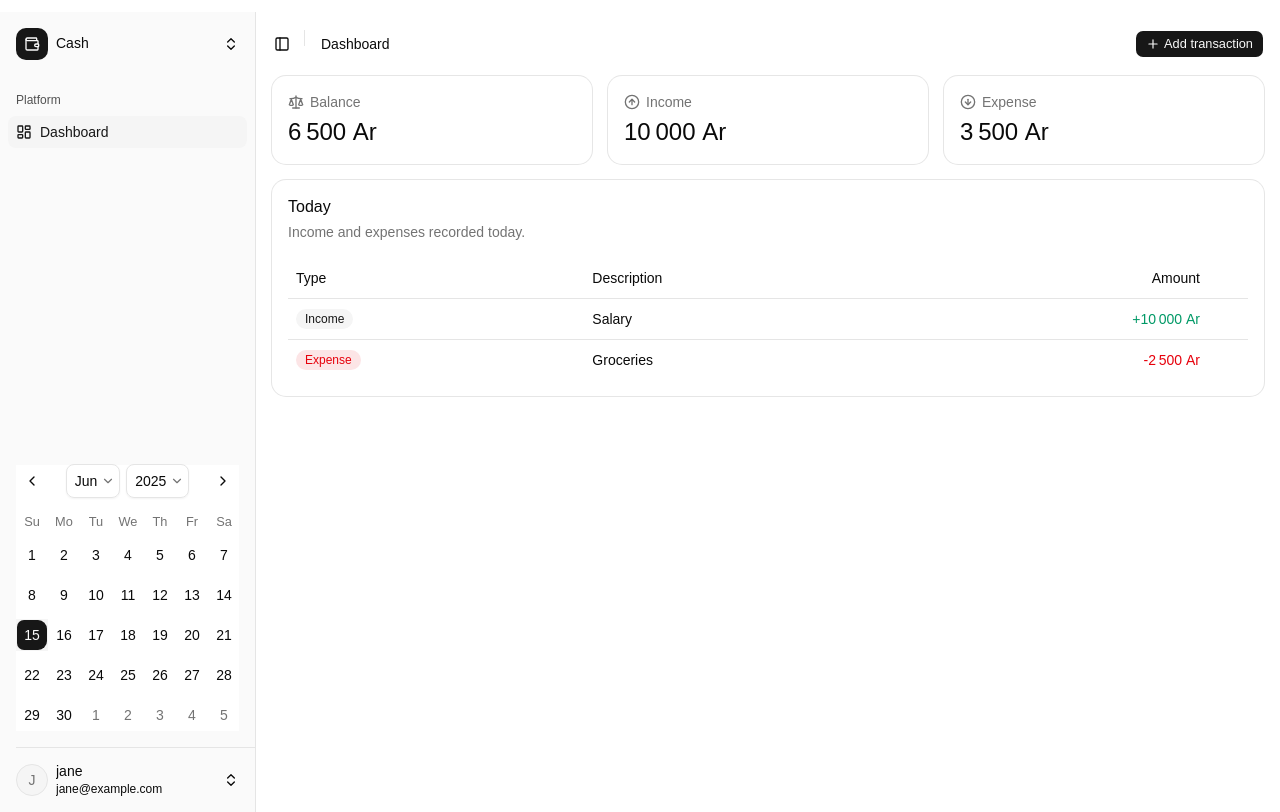
Dashboard day list › shows another day from the calendar, and returns to today
Expected: the text "Salary" is shown, [584,298,900,339]
Click the button named "June 10th, 2025".
click(96, 595)  # box [80,579,112,611]
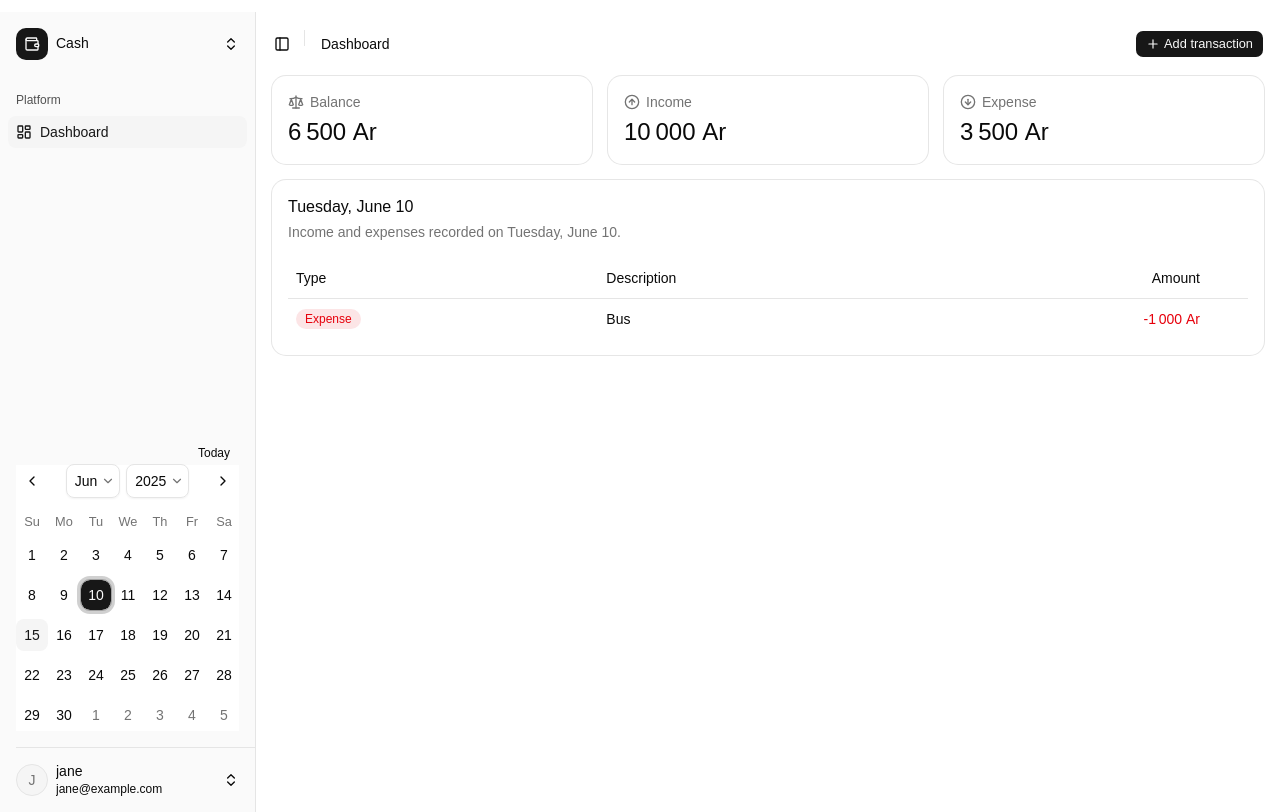
Expected: the text "Bus" is shown, [598,298,929,338]
Expected: the text "Tuesday, June 10" is shown, [288,198,413,215]
Expected: the text "Salary" is gone
Click the button "Today".
click(214, 453)  # box [189,441,239,465]
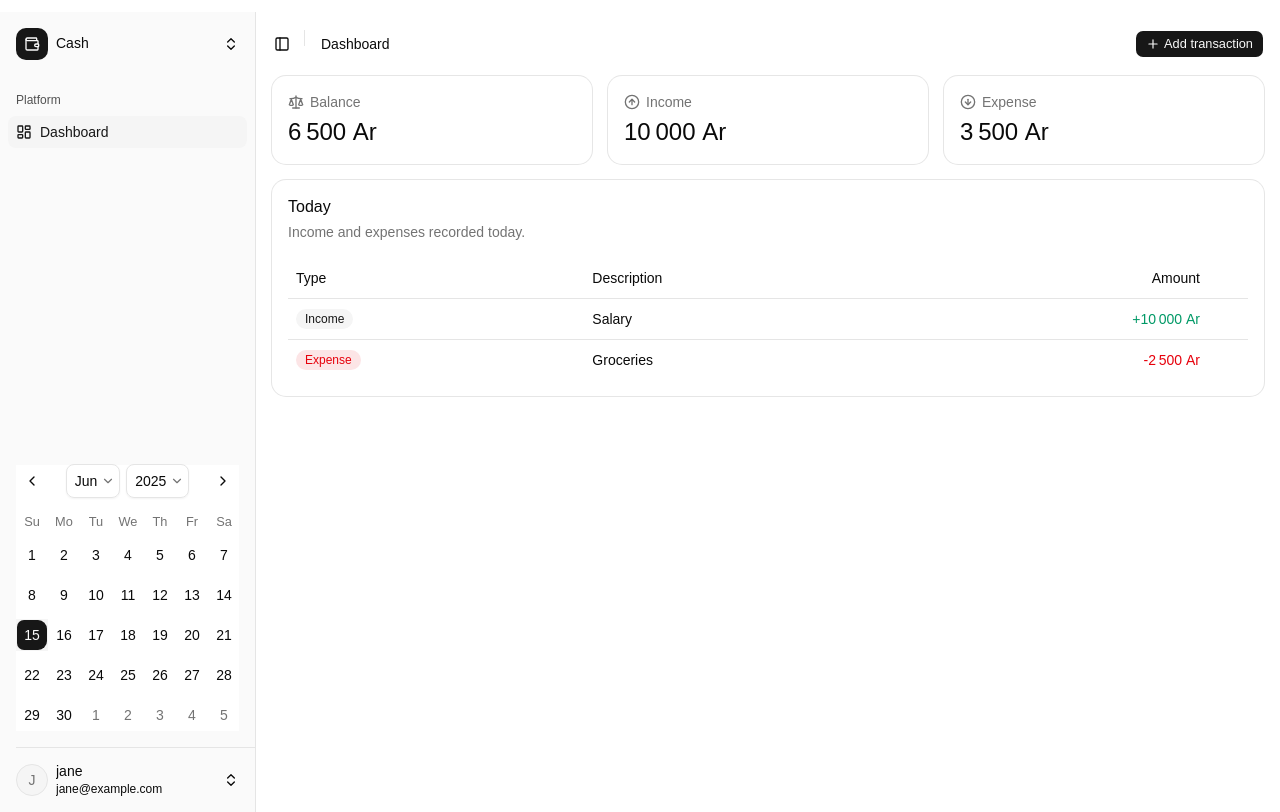
Expected: the text "Salary" is shown, [584,298,900,339]
Expected: the text "Bus" is gone
